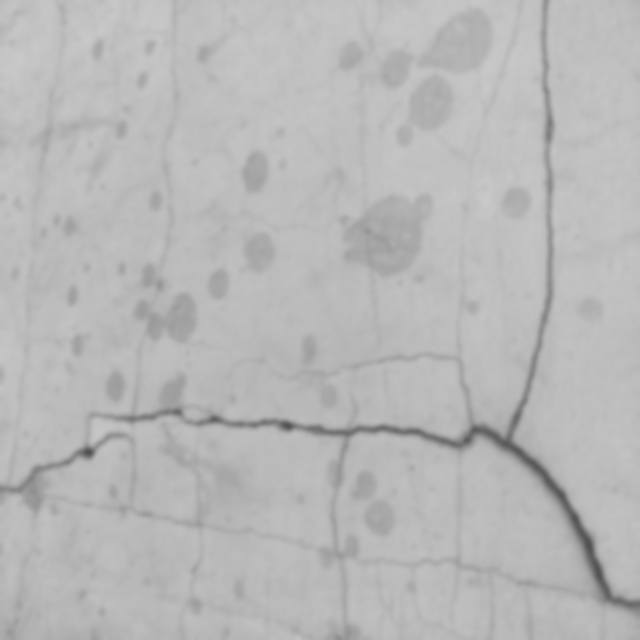SurfaceCrack: (461, 0, 640, 640), (2, 384, 484, 521)
